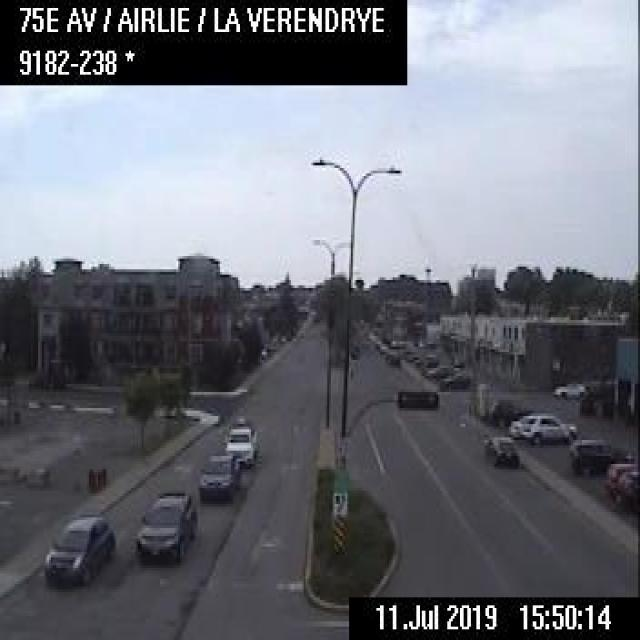construction: (91, 468, 97, 490), (86, 466, 91, 487)
vehicle: (40, 509, 116, 587), (133, 488, 196, 557), (566, 435, 633, 473), (194, 449, 238, 499), (520, 410, 576, 444), (224, 414, 259, 464), (480, 430, 521, 466), (604, 460, 638, 491), (551, 378, 585, 398), (439, 368, 470, 388), (510, 412, 532, 435), (424, 361, 454, 377)
